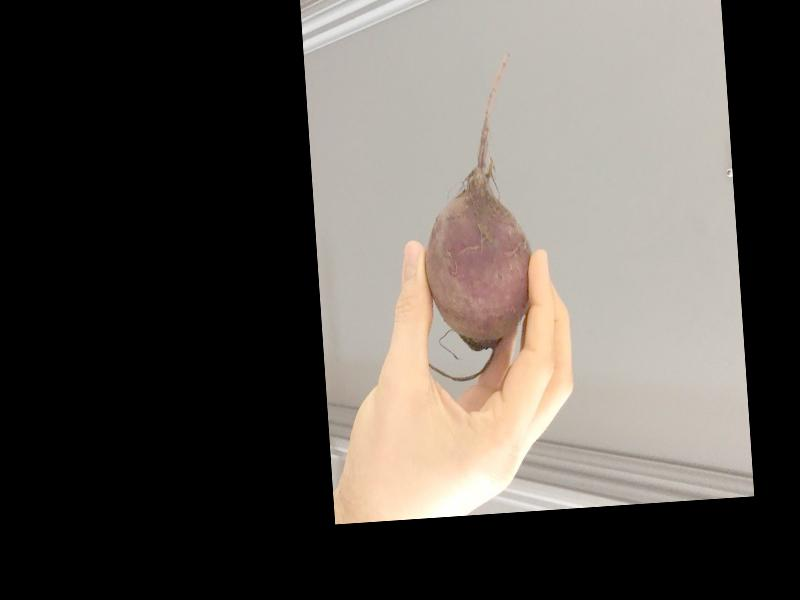Beet: (409, 46, 536, 381)
